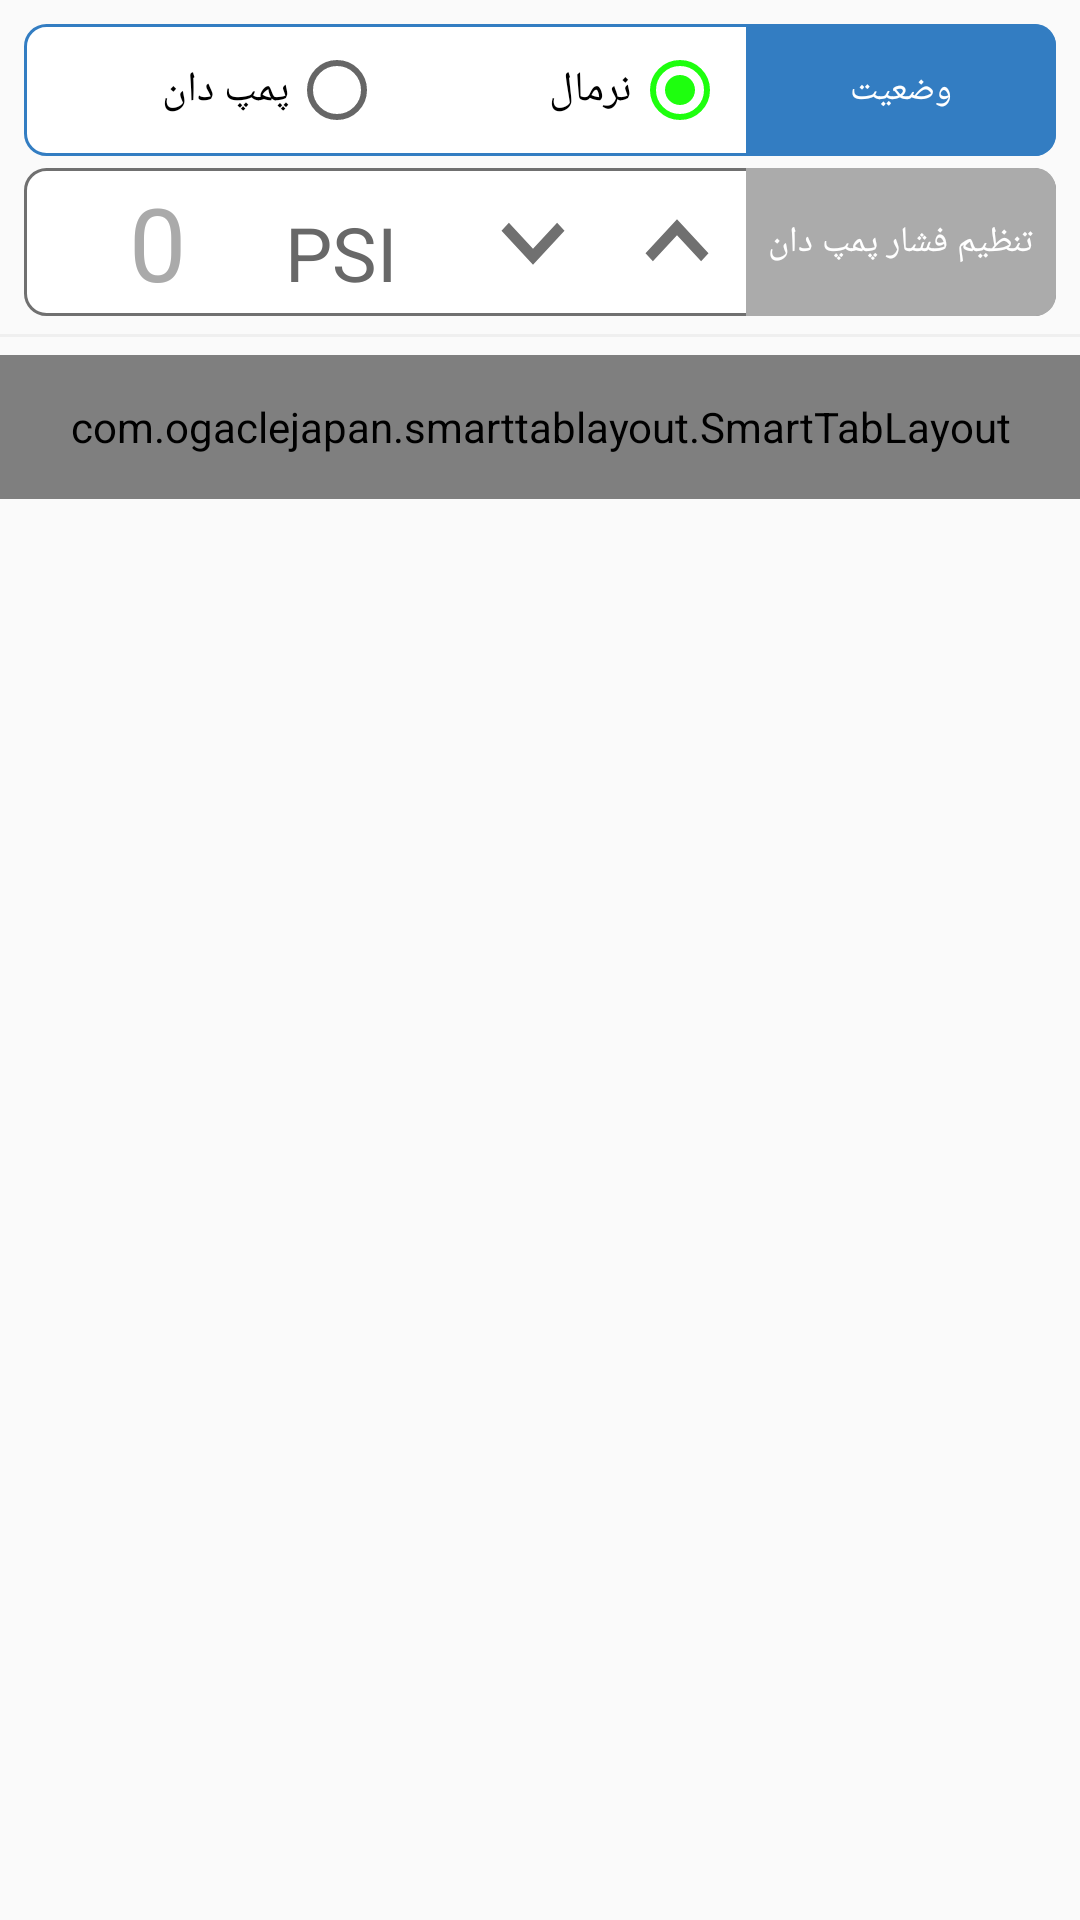

Icons on this 1080×1920 Android screen, each with the point to tap as (x=x, y=y):
expand less: (x=677, y=240)
expand more: (x=533, y=244)
